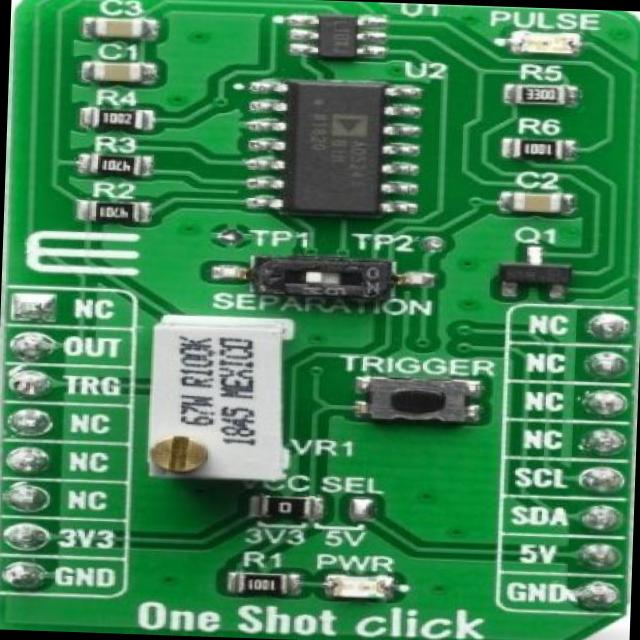IC: (259, 74, 406, 224), (292, 15, 388, 62)
LED: (500, 34, 590, 64), (328, 568, 393, 602)
capacitor: (502, 186, 574, 216), (92, 17, 158, 38), (90, 62, 148, 81)
potentiometer: (149, 320, 300, 490)
resistor: (235, 572, 294, 600), (83, 150, 140, 178), (516, 136, 574, 163), (86, 108, 148, 130), (92, 204, 146, 228), (270, 494, 318, 520), (516, 86, 568, 109)
transistor: (497, 252, 582, 300)
